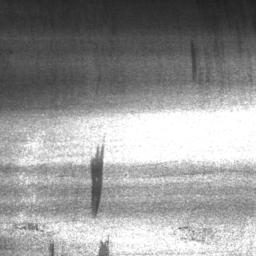Iron scale compression: (90, 144, 105, 220), (189, 40, 197, 83), (98, 240, 110, 256), (48, 241, 55, 256)
